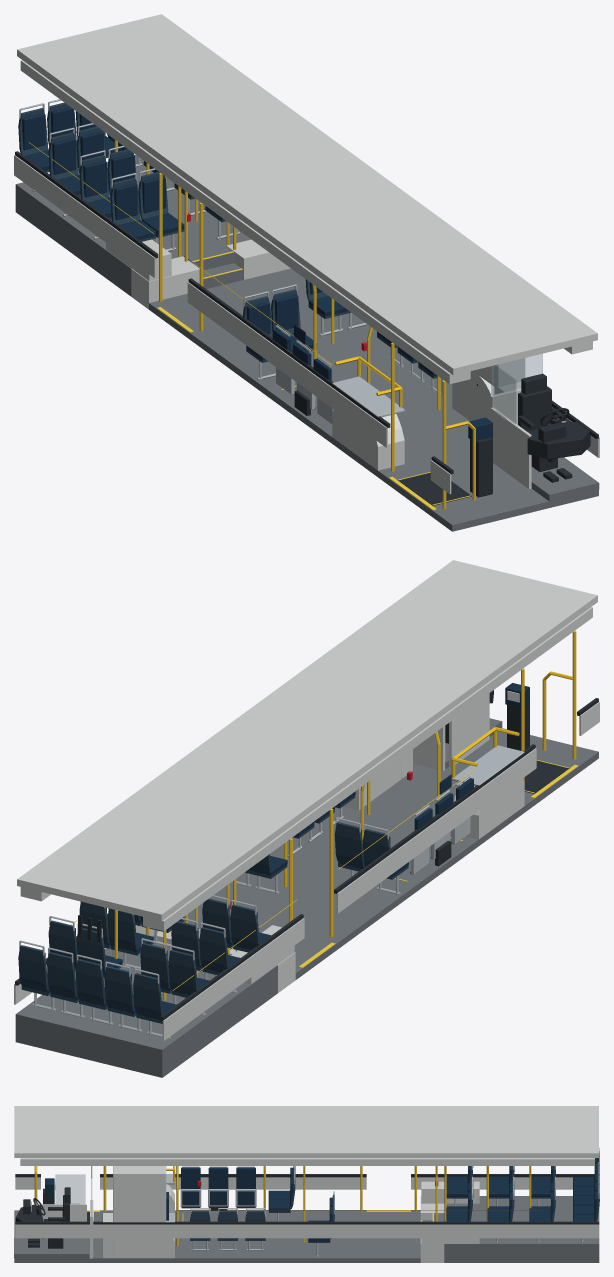
Rendered from city-bus-12m-interior-v2.lod1.glb.
The picture shows the model from 3 angles, top to bottom: view 1: azimuth 30°, elevation 25°; view 2: azimuth 150°, elevation 25°; view 3: azimuth 270°, elevation 25°; orthographic projection. The views are drawn at different scales.
Parts seen in each view (by area): view 1: interior-batch-panel, interior-batch-floor, interior-batch-seat, interior-batch-rubber, interior-batch-rail, interior-batch-seat-shell, interior-batch-metal, interior-batch-glass; view 2: interior-batch-panel, interior-batch-floor, interior-batch-seat-shell, interior-batch-metal, interior-batch-rubber, interior-batch-rail, interior-batch-seat; view 3: interior-batch-panel, interior-batch-floor, interior-batch-seat, interior-batch-rubber, interior-batch-rail, interior-batch-seat-shell, interior-batch-metal, interior-batch-glass.
Part boxes in pixels (x1,y1,x2,y2): interior-batch-panel: (14,14,599,494); interior-batch-floor: (15,155,599,531); interior-batch-seat: (22,107,492,442); interior-batch-rubber: (15,151,598,505); interior-batch-rail: (29,139,475,509); interior-batch-seat-shell: (18,102,437,378); interior-batch-metal: (19,99,566,424); interior-batch-glass: (491,354,542,424); interior-batch-panel: (14,560,599,1040); interior-batch-floor: (15,718,598,1077); interior-batch-seat-shell: (18,795,408,1023); interior-batch-metal: (19,745,524,1039); interior-batch-rubber: (15,690,598,1020); interior-batch-rail: (71,630,576,1000); interior-batch-seat: (21,683,529,1020); interior-batch-panel: (14,1106,599,1262); interior-batch-floor: (14,1196,599,1262); interior-batch-seat: (45,1158,597,1241); interior-batch-rubber: (15,1158,599,1248); interior-batch-rail: (34,1166,543,1246); interior-batch-seat-shell: (190,1151,599,1242); interior-batch-metal: (70,1147,599,1257); interior-batch-glass: (55,1174,91,1215).
Size of the model in its own units: 2.36 by 2.44 by 11.88.
